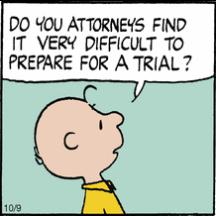charlie: (34, 83, 124, 214)
